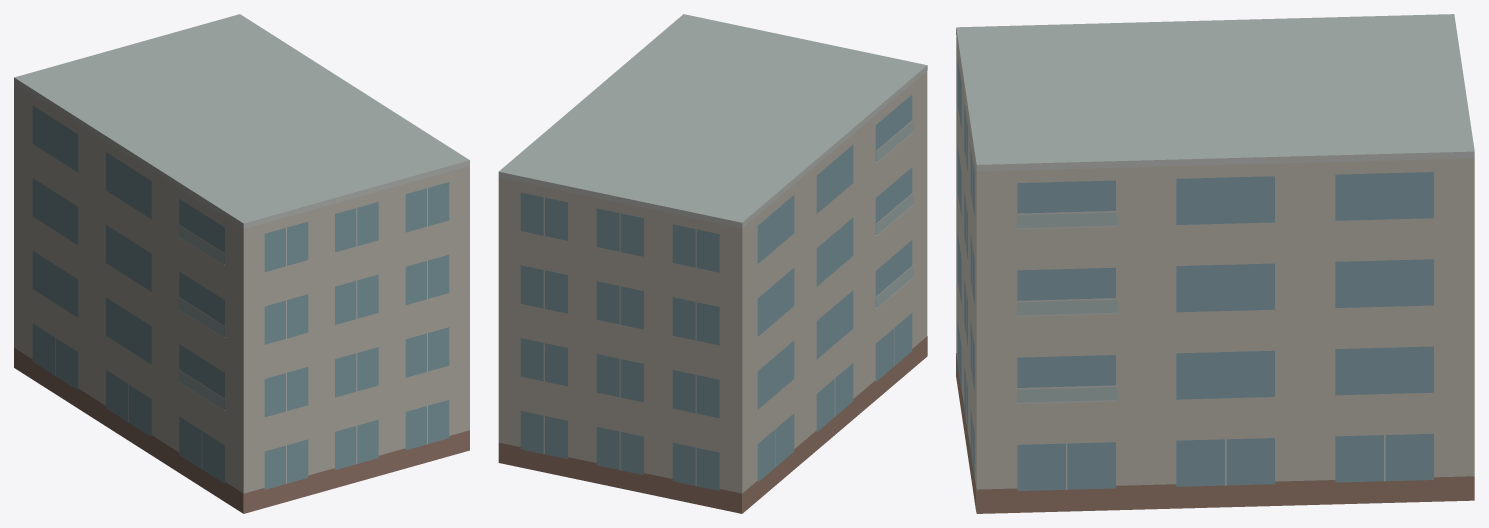
Rendered from survey-upis-32742370.glb.
The picture shows the model from 3 angles, left to right: view 1: azimuth 30°, elevation 25°; view 2: azimuth 150°, elevation 25°; view 3: azimuth 270°, elevation 25°; orthographic projection. The views are drawn at different scales.
Parts seen in each view (by area): view 1: survey-upis-32742370.tmp; view 2: survey-upis-32742370.tmp; view 3: survey-upis-32742370.tmp.
Boxes of the visible parts, x1,y1,x2,y2 form: survey-upis-32742370.tmp: (14,14,469,513); survey-upis-32742370.tmp: (498,14,927,513); survey-upis-32742370.tmp: (956,14,1474,513).
Bounding box in the file's own units: 11.87 × 12.8 × 17.25.
